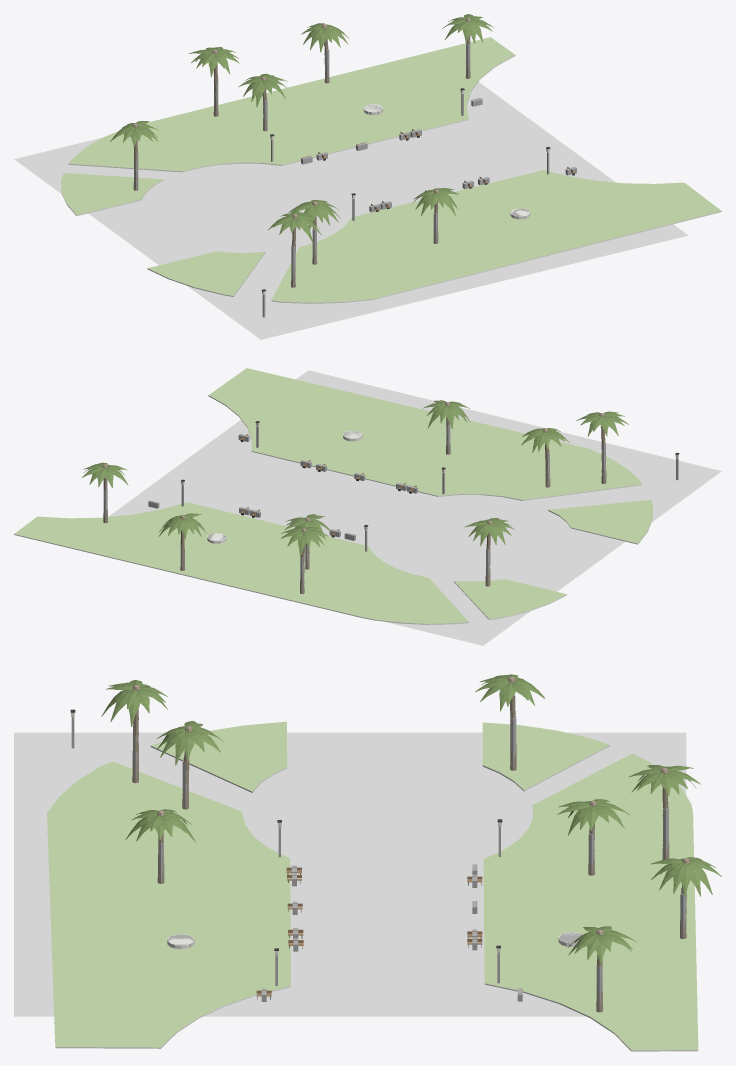
File: chunk_02_02.glb
3 views of the same model, one above another, from view 1: azimuth 30°, elevation 25°; view 2: azimuth 150°, elevation 25°; view 3: azimuth 270°, elevation 25° (orthographic). The views are drawn at different scales.
Visible parts, largest first — view 1: chunk_02_02_LOD0, chunk_02_02_COL; view 2: chunk_02_02_LOD0, chunk_02_02_COL; view 3: chunk_02_02_LOD0, chunk_02_02_COL.
Boxes of the visible parts, left/top/right/bottom form: chunk_02_02_LOD0: left=14, top=14, right=721, bottom=339; chunk_02_02_COL: left=134, top=43, right=576, bottom=317; chunk_02_02_LOD0: left=14, top=368, right=721, bottom=645; chunk_02_02_COL: left=103, top=424, right=678, bottom=593; chunk_02_02_LOD0: left=14, top=674, right=721, bottom=1051; chunk_02_02_COL: left=71, top=717, right=685, bottom=1011.
Size of what is drawn, in the model's own units: 92.53 by 13.19 by 84.23.
